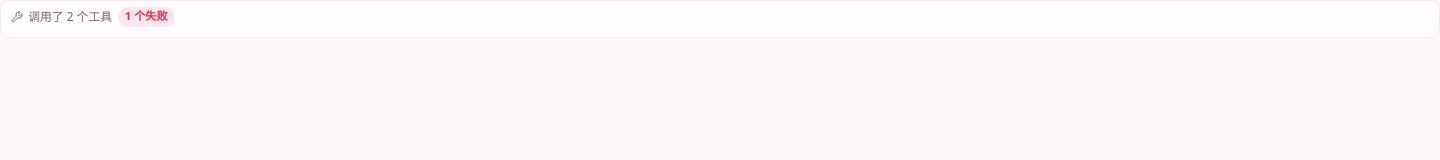
Test case: ChatCardView › tool_calls card: one compact line, details list each call with its outcome
Expected: the text "1 个失败" is shown, [118,7,175,27]
What coordinates should you click on to do the following:
click the text "调用了 2 个工具"
I would click on:
 (70, 17)
Its box is [28,8,112,26].
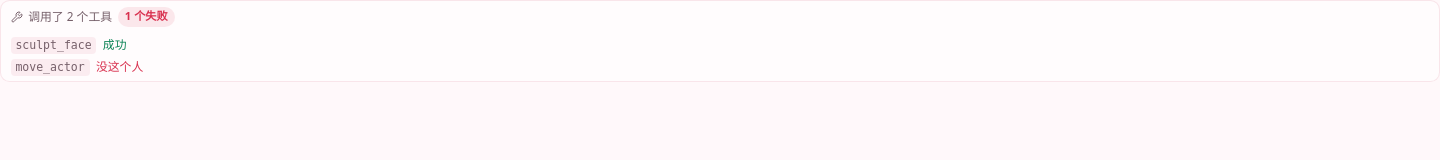
Result: the text "sculpt_face" is shown at [11,37,96,54]
Result: the text "成功" is shown at [103,36,126,54]
Result: the text "没这个人" is shown at [96,58,143,75]
